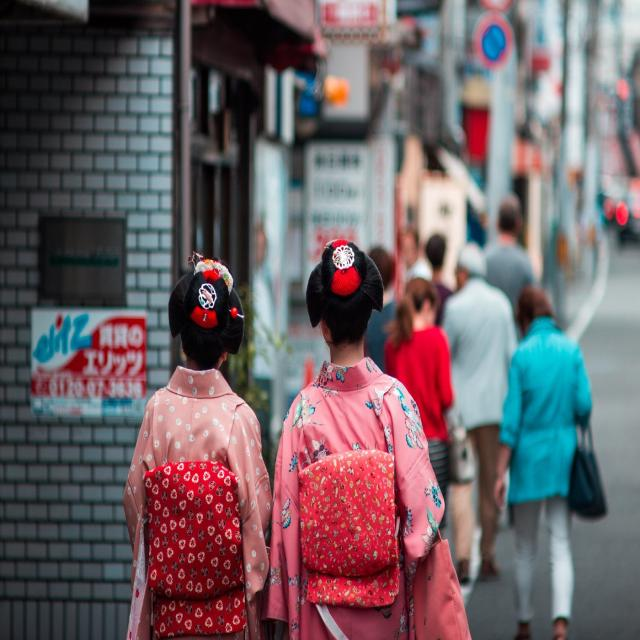body: (268, 238, 474, 639), (120, 250, 274, 639), (492, 280, 610, 640), (438, 244, 517, 586), (346, 243, 412, 589), (382, 277, 456, 544), (483, 197, 536, 341), (421, 233, 456, 325)
